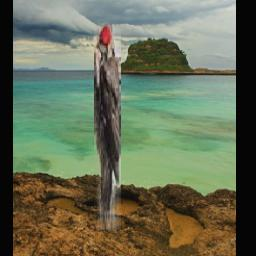Woodpecker: (95, 24, 122, 230)
